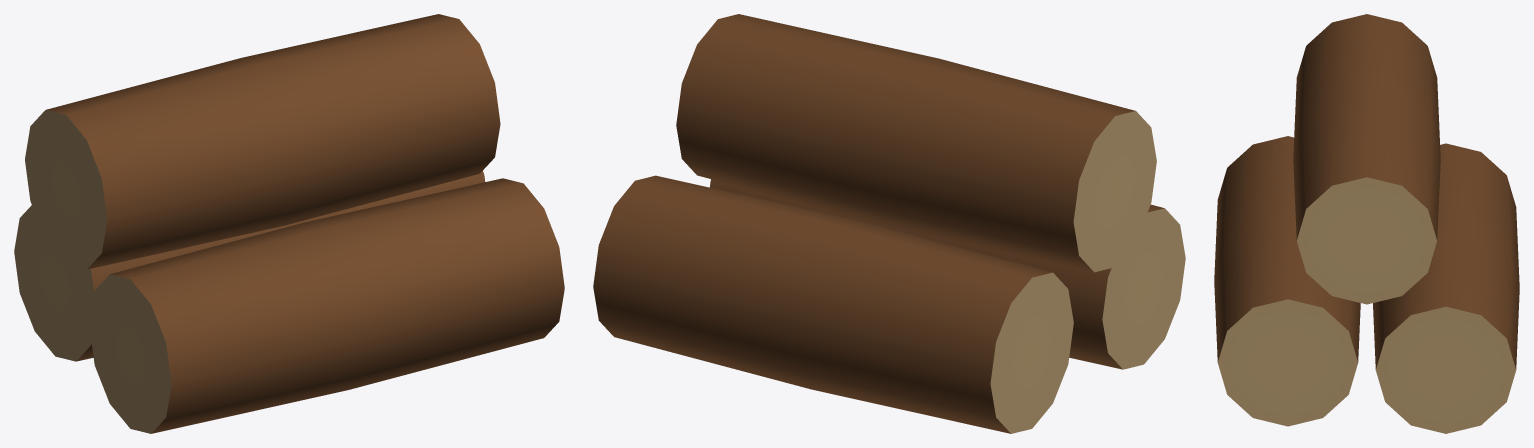
Rendered from item_ic_wood.glb.
3 renders of one model, left to right at view 1: azimuth 30°, elevation 25°; view 2: azimuth 150°, elevation 25°; view 3: azimuth 270°, elevation 25°, orthographic. The views are drawn at different scales.
Visible parts, largest first — view 1: item_ic_wood_main; view 2: item_ic_wood_main; view 3: item_ic_wood_main.
Boxes of the visible parts, <box> form: item_ic_wood_main: <box>14,14,564,433</box>; item_ic_wood_main: <box>593,14,1185,433</box>; item_ic_wood_main: <box>1214,14,1519,433</box>.
Size of the model in its own units: 0.24 by 0.156 by 0.174.
